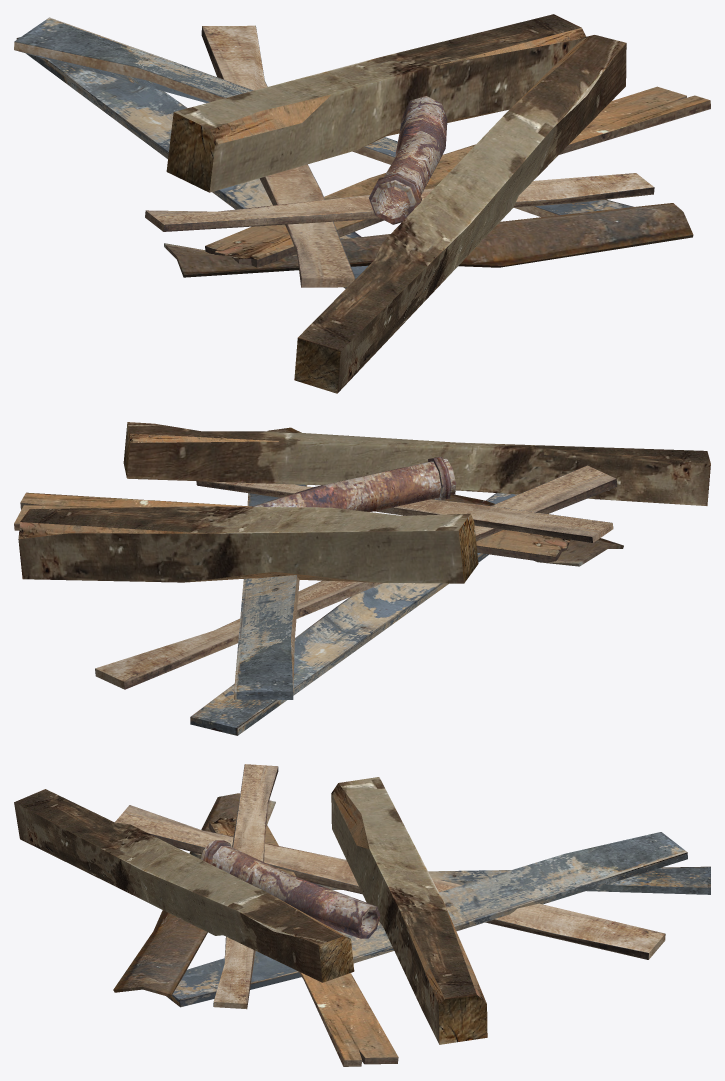
The model's file is Debris2_8.fbx.
3 renders of one model, top to bottom at view 1: azimuth 30°, elevation 25°; view 2: azimuth 150°, elevation 25°; view 3: azimuth 270°, elevation 25°, orthographic. The views are drawn at different scales.
Parts seen in each view (by area): view 1: polySurface299; view 2: polySurface299; view 3: polySurface299.
Part boxes in pixels (bbox=[...]): polySurface299: bbox=[14, 14, 710, 393]; polySurface299: bbox=[14, 422, 710, 735]; polySurface299: bbox=[14, 764, 710, 1066].
Bounding box in the file's own units: 2.54 × 0.4543 × 3.1.
